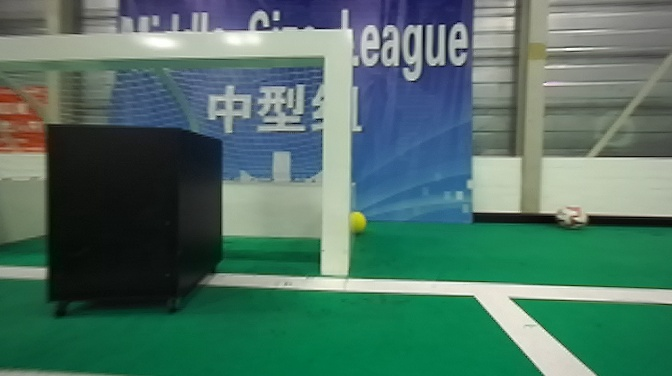ball: (552, 204, 589, 232), (342, 202, 366, 233)
goalpost: (320, 29, 351, 278)
